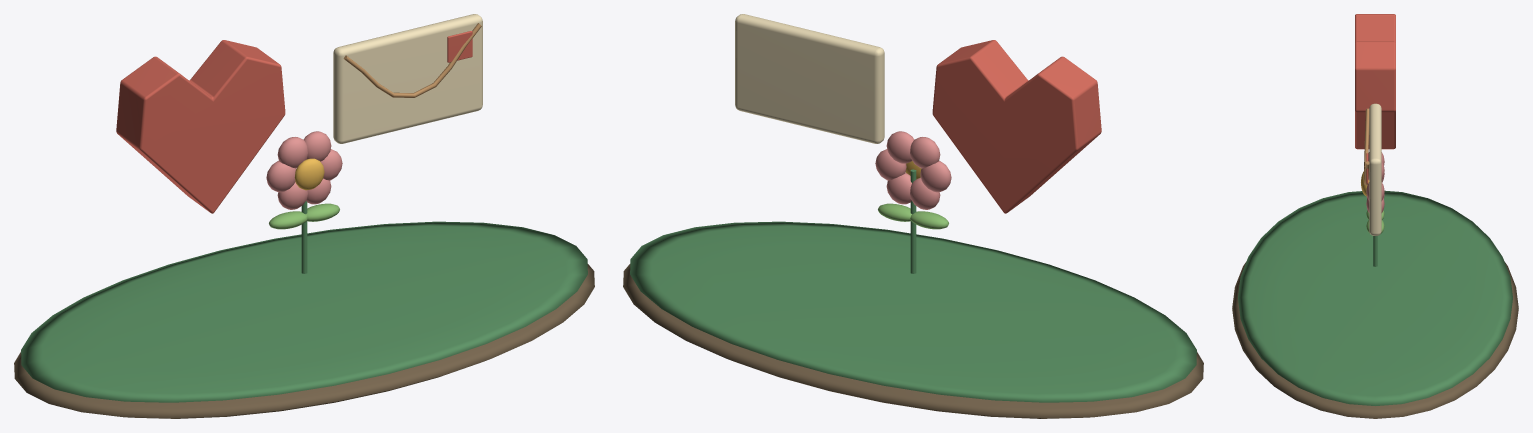
File: complete-second-felt-thanks.glb
3 views of the same model, side by side, from view 1: azimuth 30°, elevation 25°; view 2: azimuth 150°, elevation 25°; view 3: azimuth 270°, elevation 25° (orthographic). The views are drawn at different scales.
Parts seen in each view (by area): view 1: complete-second-felt-thanks_surface_01, complete-second-felt-thanks_surface_02, complete-second-felt-thanks_surface_03, complete-second-felt-thanks_surface_00, complete-second-felt-thanks_surface_06, complete-second-felt-thanks_surface_05, complete-second-felt-thanks_surface_04, complete-second-felt-thanks_surface_07; view 2: complete-second-felt-thanks_surface_01, complete-second-felt-thanks_surface_02, complete-second-felt-thanks_surface_03, complete-second-felt-thanks_surface_00, complete-second-felt-thanks_surface_06, complete-second-felt-thanks_surface_05; view 3: complete-second-felt-thanks_surface_01, complete-second-felt-thanks_surface_00, complete-second-felt-thanks_surface_02, complete-second-felt-thanks_surface_03, complete-second-felt-thanks_surface_04, complete-second-felt-thanks_surface_06.
Part boxes in pixels (x1=…): complete-second-felt-thanks_surface_01: x1=21, y1=201, x2=587, y2=402; complete-second-felt-thanks_surface_02: x1=116, y1=31, x2=472, y2=213; complete-second-felt-thanks_surface_03: x1=333, y1=14, x2=482, y2=143; complete-second-felt-thanks_surface_00: x1=14, y1=264, x2=594, y2=418; complete-second-felt-thanks_surface_06: x1=266, y1=131, x2=342, y2=209; complete-second-felt-thanks_surface_05: x1=269, y1=203, x2=339, y2=229; complete-second-felt-thanks_surface_04: x1=343, y1=23, x2=481, y2=97; complete-second-felt-thanks_surface_07: x1=294, y1=158, x2=324, y2=190; complete-second-felt-thanks_surface_01: x1=630, y1=169, x2=1196, y2=402; complete-second-felt-thanks_surface_02: x1=932, y1=40, x2=1101, y2=213; complete-second-felt-thanks_surface_03: x1=735, y1=14, x2=884, y2=143; complete-second-felt-thanks_surface_00: x1=623, y1=264, x2=1203, y2=418; complete-second-felt-thanks_surface_06: x1=875, y1=131, x2=951, y2=209; complete-second-felt-thanks_surface_05: x1=878, y1=203, x2=948, y2=229; complete-second-felt-thanks_surface_01: x1=1238, y1=190, x2=1512, y2=405; complete-second-felt-thanks_surface_00: x1=1232, y1=261, x2=1518, y2=418; complete-second-felt-thanks_surface_02: x1=1355, y1=14, x2=1395, y2=183; complete-second-felt-thanks_surface_03: x1=1369, y1=103, x2=1381, y2=235; complete-second-felt-thanks_surface_04: x1=1363, y1=108, x2=1369, y2=185; complete-second-felt-thanks_surface_06: x1=1366, y1=152, x2=1384, y2=212.
Size of the model in its own units: 4.56 by 2.43 by 2.5.
